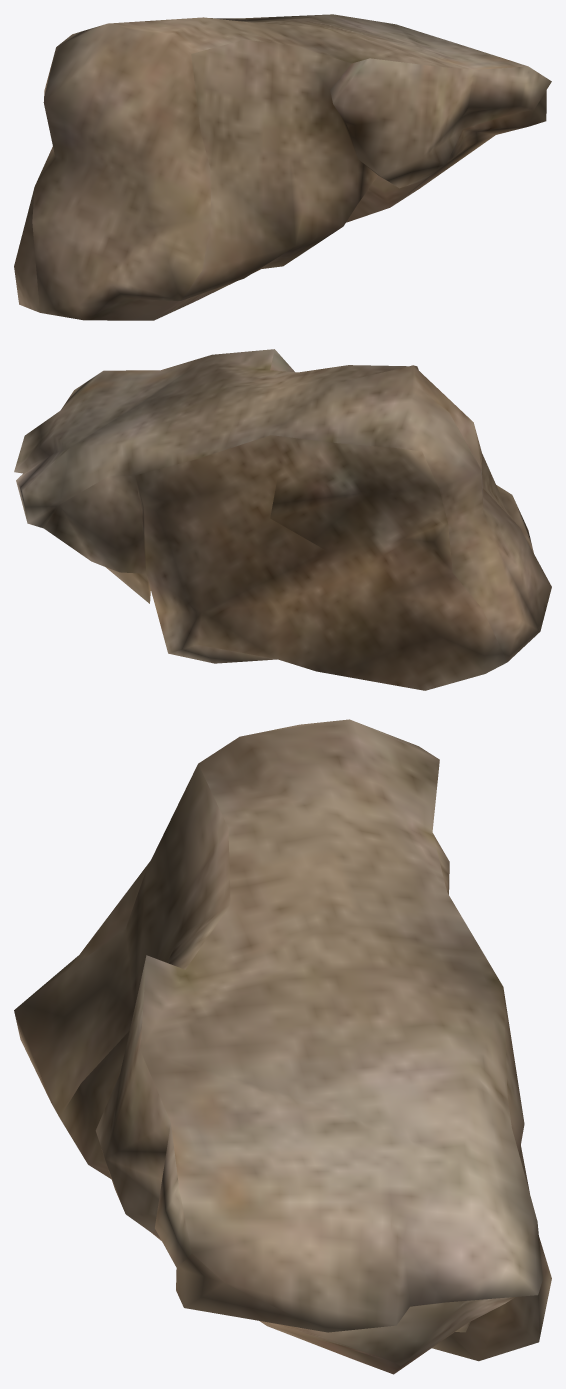
Rendered from stone_a.glb.
3 renders of one model, top to bottom at view 1: azimuth 30°, elevation 25°; view 2: azimuth 150°, elevation 25°; view 3: azimuth 270°, elevation 25°, orthographic. The views are drawn at different scales.
Visible parts, largest first — view 1: namaqualand_stones_01_b; view 2: namaqualand_stones_01_b; view 3: namaqualand_stones_01_b.
Boxes of the visible parts, x1=… form: namaqualand_stones_01_b: x1=14, y1=14, x2=551, y2=320; namaqualand_stones_01_b: x1=14, y1=349, x2=551, y2=690; namaqualand_stones_01_b: x1=14, y1=719, x2=551, y2=1374.
Size of the model in its own units: 0.1493 by 0.084 by 0.0795.
1 material, 1 textured.
